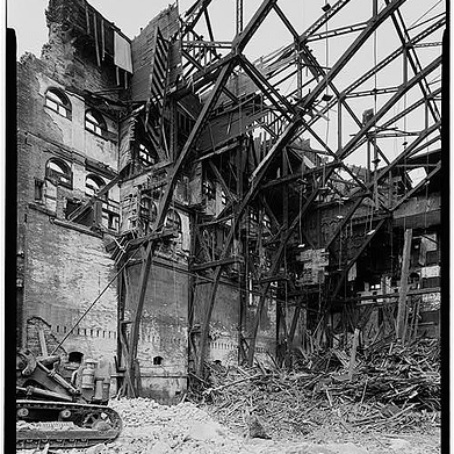building: (22, 1, 454, 447)
